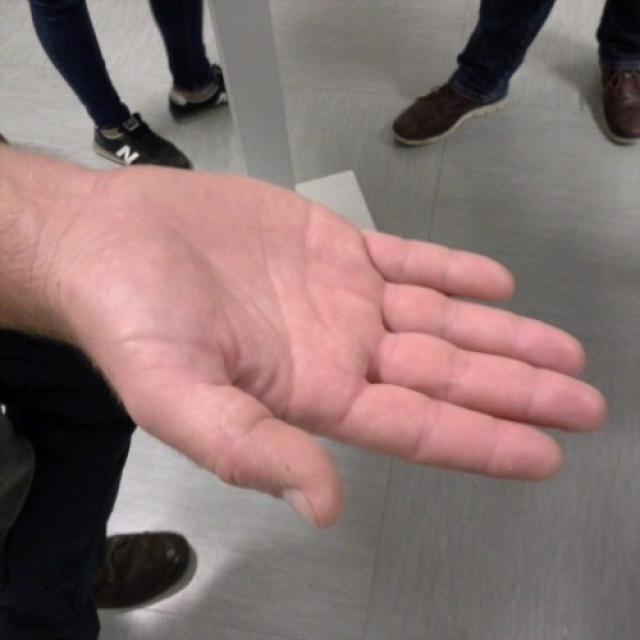paper: (79, 166, 608, 528)
